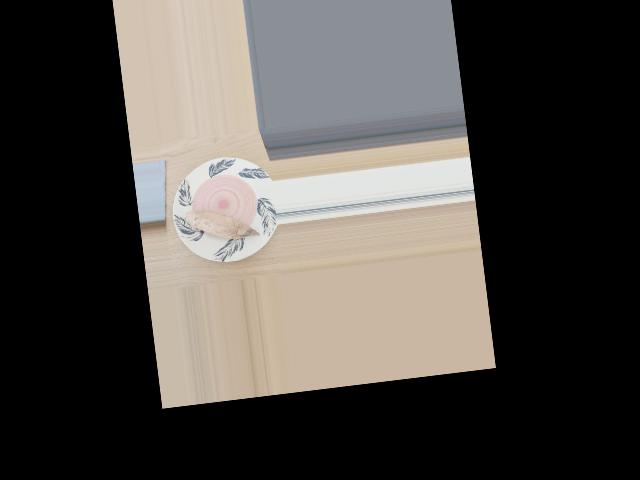sweet_potato: (188, 201, 252, 244)
